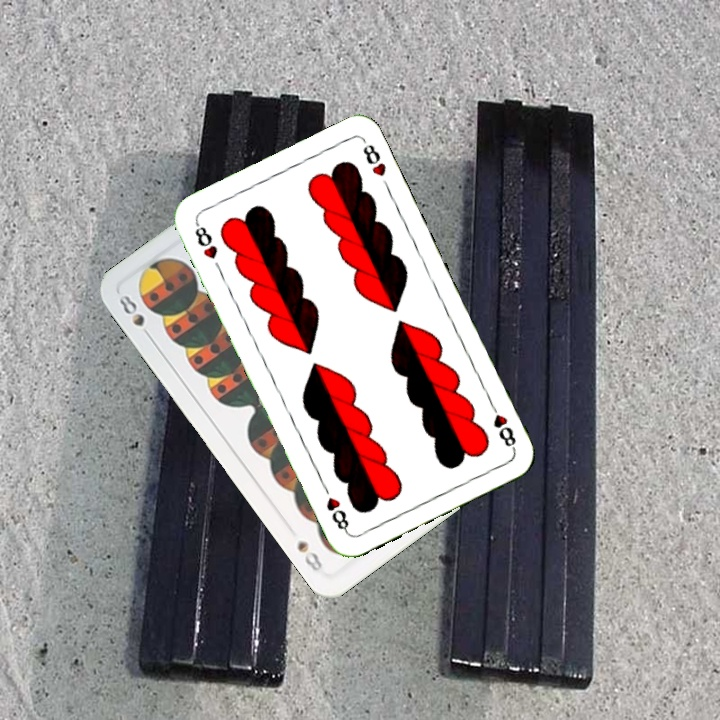H8: (485, 398, 519, 453), (190, 218, 220, 262)
S8: (115, 290, 156, 343)
